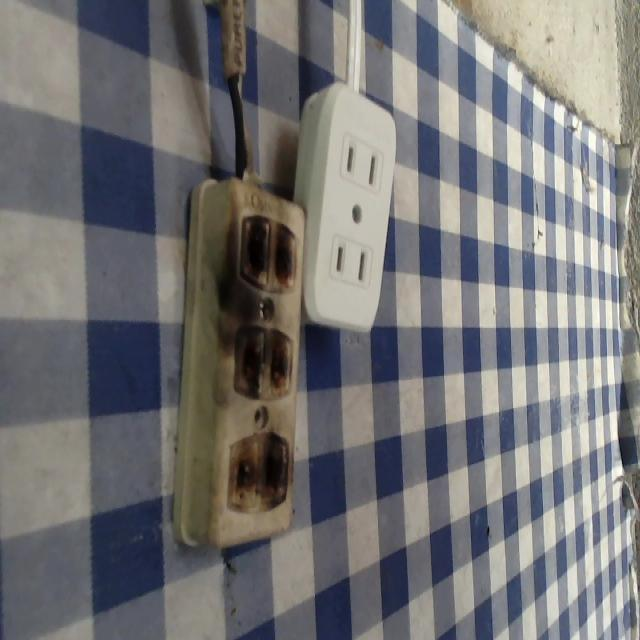-: (237, 215, 303, 297), (228, 432, 293, 511), (230, 324, 294, 401)
